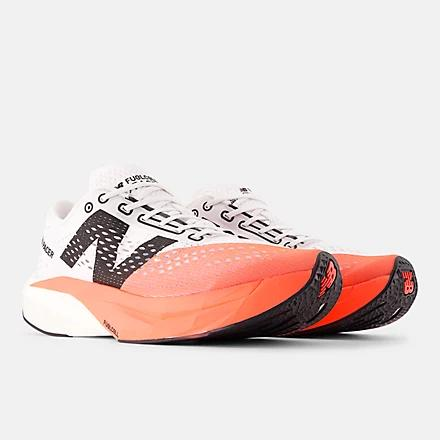NB logo: (52, 197, 186, 292)
